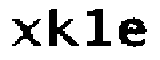1: (83, 6, 116, 50)
e: (116, 16, 151, 50)
k: (44, 7, 82, 52)
x: (8, 16, 42, 50)
